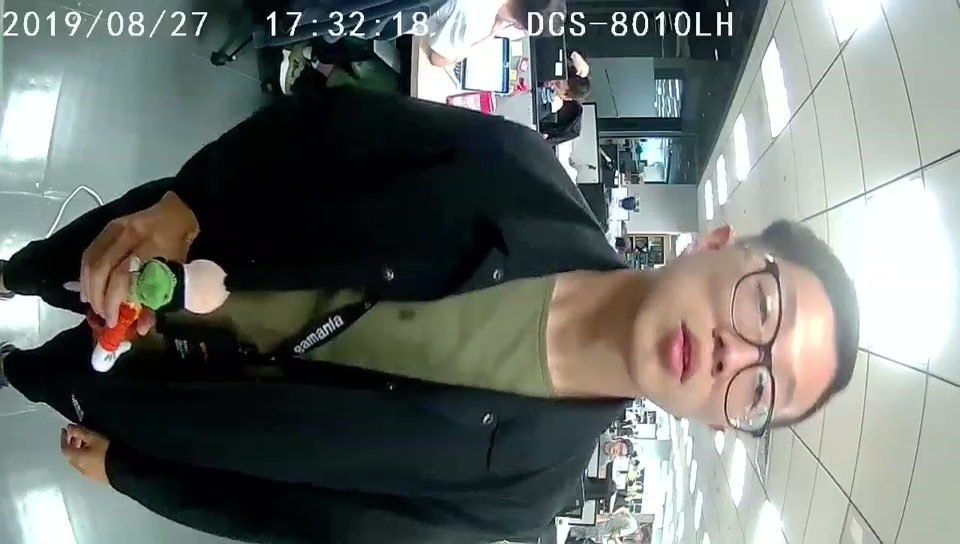goofy: (90, 257, 231, 374)
